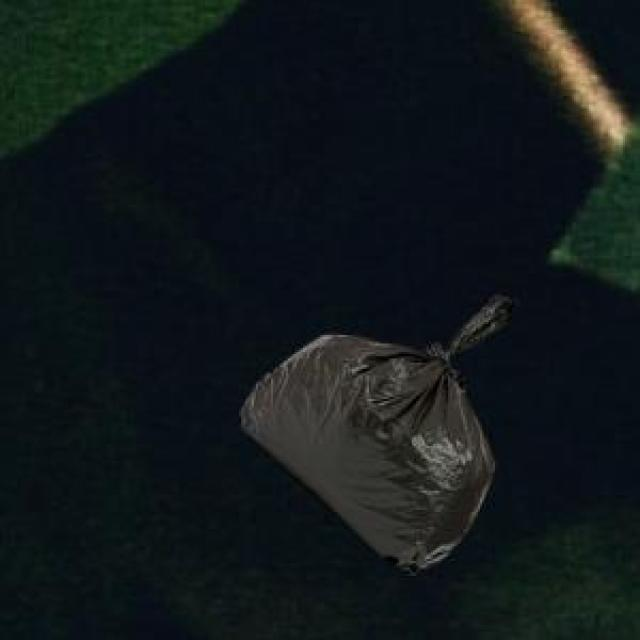miscellaneous trash: (237, 290, 514, 570)
